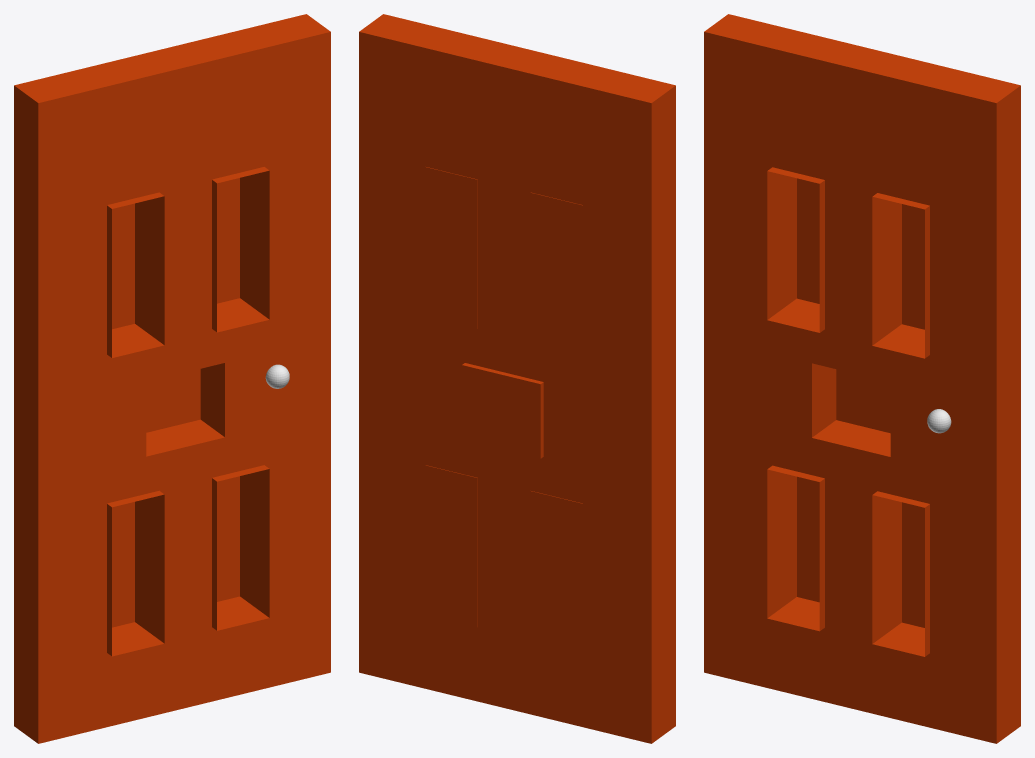
File: maindoor.fbx
3 renders of one model, left to right at view 1: azimuth 30°, elevation 25°; view 2: azimuth 150°, elevation 25°; view 3: azimuth 330°, elevation 25°, orthographic.
Visible parts, largest first — view 1: Cube.001; view 2: Cube.001; view 3: Cube.001.
Boxes of the visible parts, <box> form: Cube.001: <box>14,14,330,743</box>; Cube.001: <box>359,14,675,743</box>; Cube.001: <box>704,14,1020,743</box>.
Bounding box in the file's own units: 125 × 263 × 26.3.
